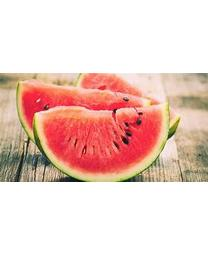watermelon: (15, 74, 180, 182)
